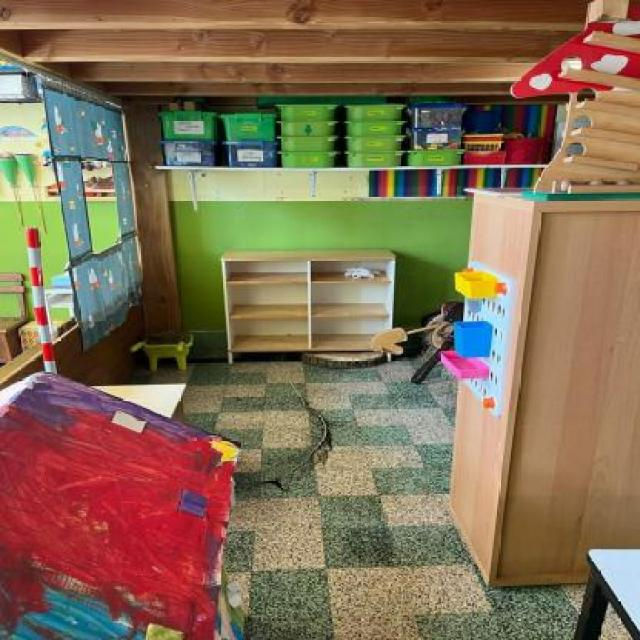Floor: (125, 355, 588, 639)
